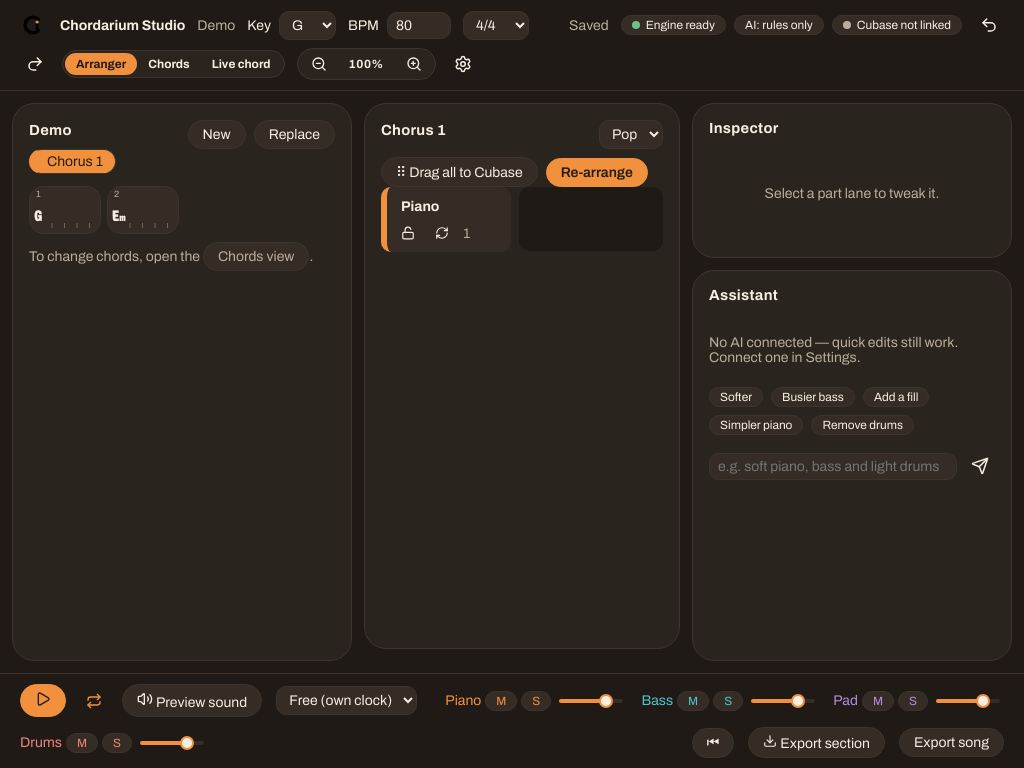
Test case: App › chord board › transposes every chord and the key
The image size is (1024, 768).
Click the button "Chords".
click(169, 64)  # box [137, 53, 201, 75]
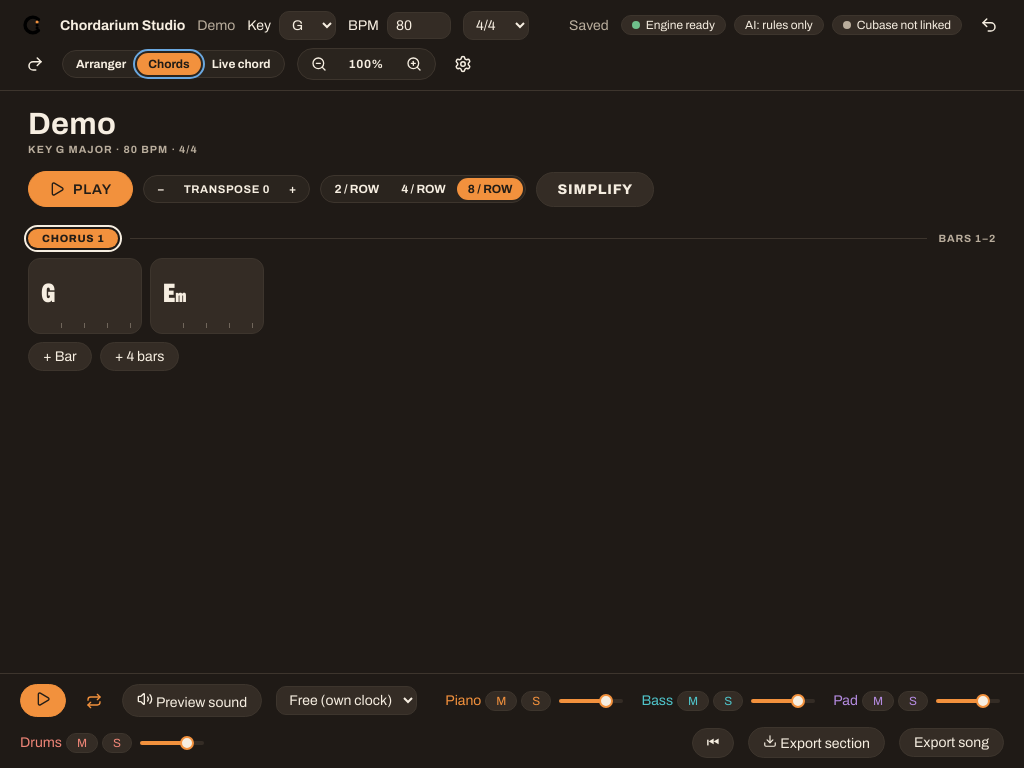
Click the button named "Transpose up one semitone".
click(293, 189)  # box [278, 178, 308, 200]
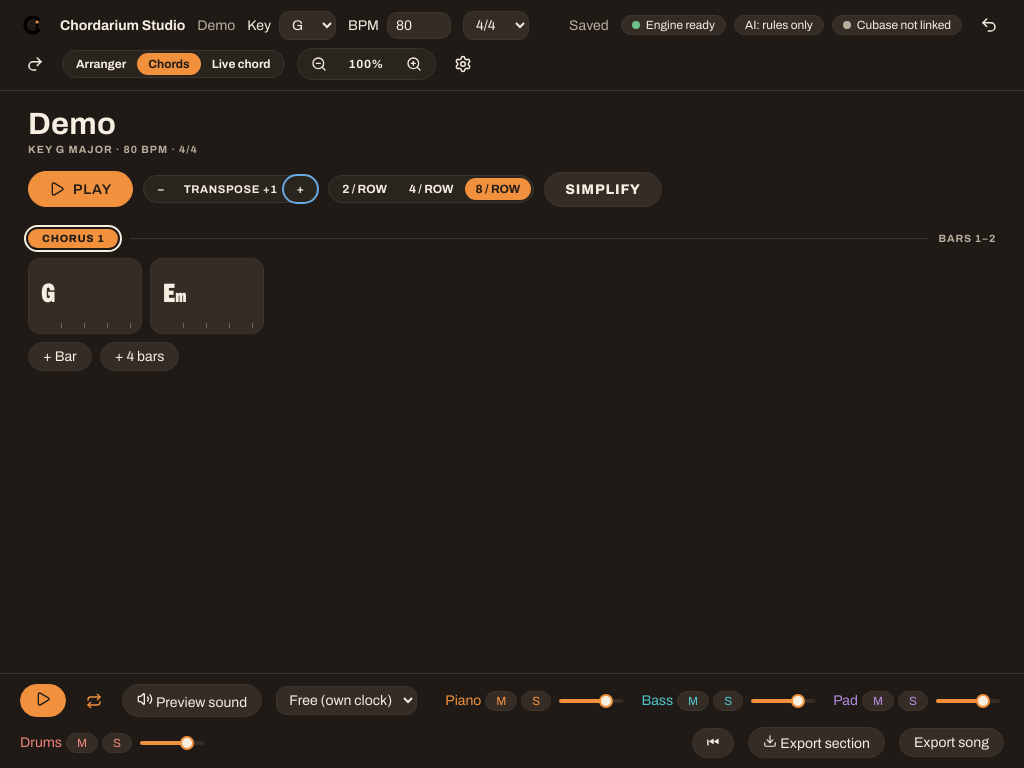
Expected: the text "TRANSPOSE +1" is shown, [176, 183, 286, 195]
